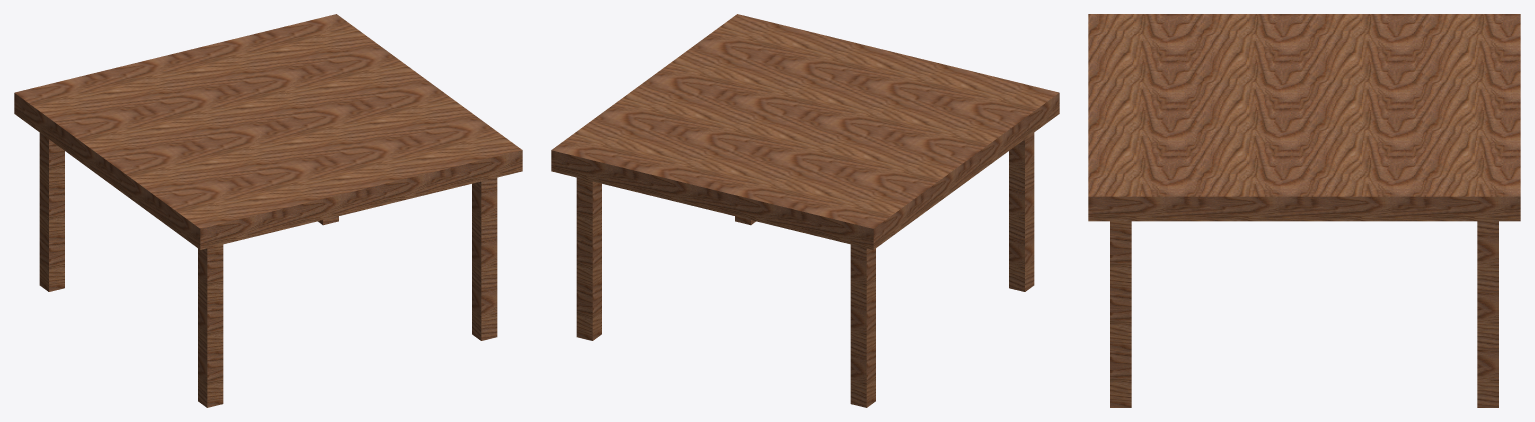
File: table.FBX
3 renders of one model, left to right at view 1: azimuth 30°, elevation 25°; view 2: azimuth 150°, elevation 25°; view 3: azimuth 270°, elevation 25°, orthographic. The views are drawn at different scales.
Parts seen in each view (by area): view 1: Box01; view 2: Box01; view 3: Box01.
Boxes of the visible parts, <box> form: Box01: <box>14,14,522,407</box>; Box01: <box>551,14,1059,407</box>; Box01: <box>1088,14,1520,407</box>.
Bounding box in the file's own units: 400 × 225 × 400.
1 material, 1 textured.
